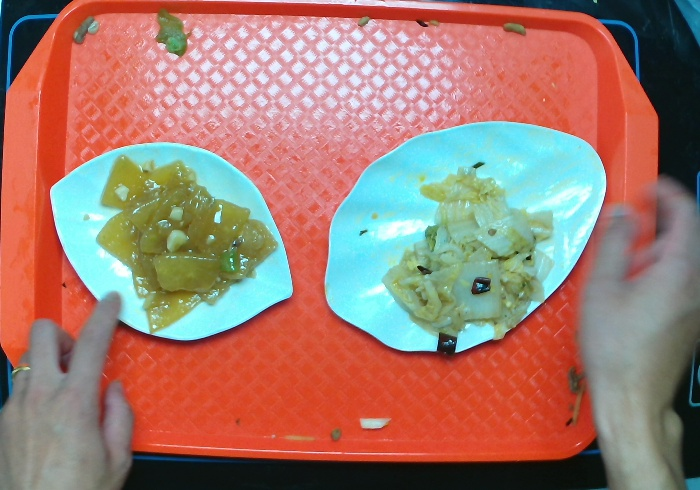RJxy-Bai_Ye_Pan: (316, 112, 614, 359)
RJxy-Da_Du_Pan: (44, 135, 300, 346)
